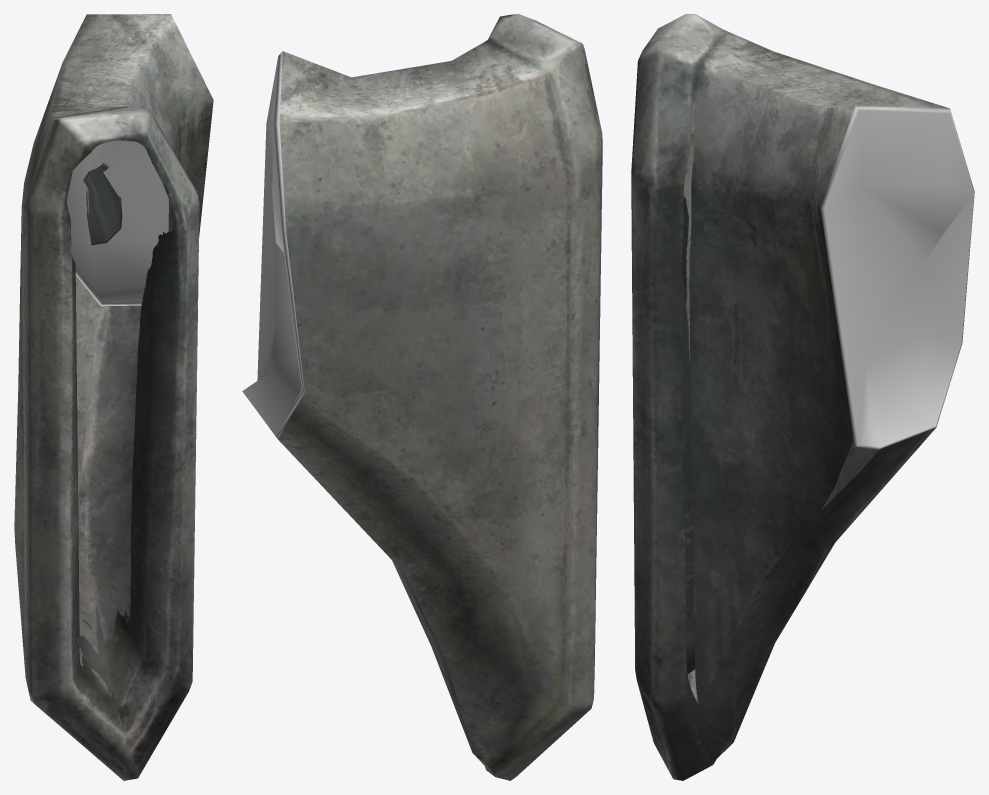
3 views of the same model, side by side, from view 1: azimuth 30°, elevation 25°; view 2: azimuth 150°, elevation 25°; view 3: azimuth 270°, elevation 25° (orthographic). The views are drawn at different scales.
Parts seen in each view (by area): view 1: SM_SaradominTemple_Statue_01v9_LOD0; view 2: SM_SaradominTemple_Statue_01v9_LOD0; view 3: SM_SaradominTemple_Statue_01v9_LOD0.
Part boxes in pixels (x1,y1,x2,y2): SM_SaradominTemple_Statue_01v9_LOD0: (14, 14, 213, 780); SM_SaradominTemple_Statue_01v9_LOD0: (242, 14, 602, 780); SM_SaradominTemple_Statue_01v9_LOD0: (631, 14, 974, 780).
Size of the model in its own units: 1.71 by 4.62 by 1.95.
